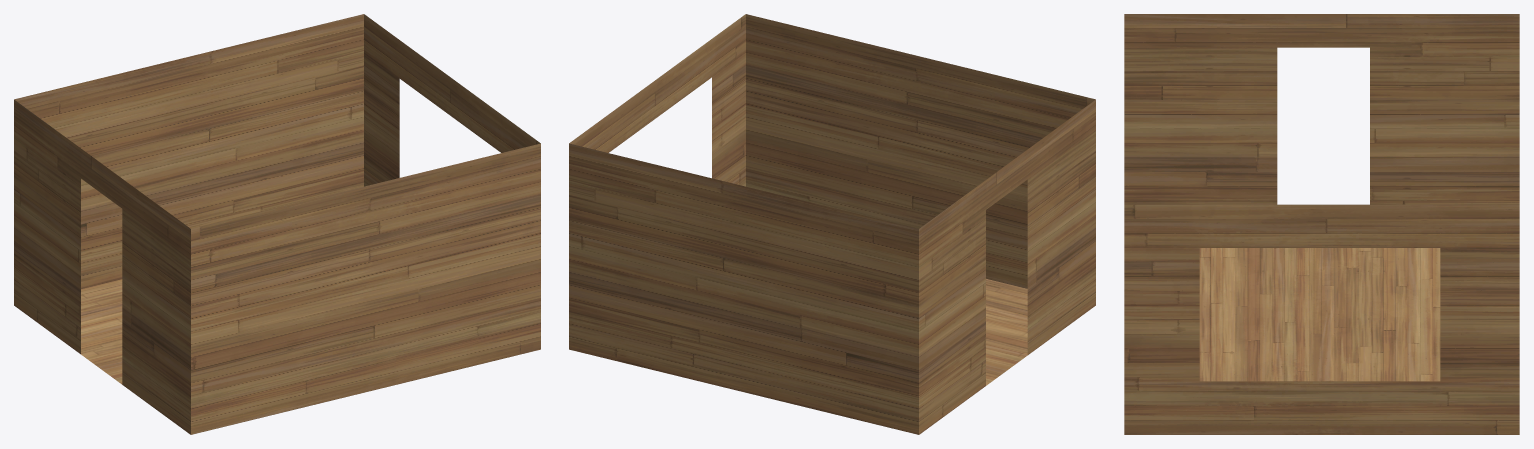
Rendered from dormitorio.fbx.
The picture shows the model from 3 angles, left to right: view 1: azimuth 30°, elevation 25°; view 2: azimuth 150°, elevation 25°; view 3: azimuth 270°, elevation 25°; orthographic projection. The views are drawn at different scales.
Visible parts, largest first — view 1: Suelo; view 2: Suelo; view 3: Suelo.
Boxes of the visible parts, bbox=[...] form: Suelo: bbox=[14, 14, 540, 434]; Suelo: bbox=[569, 14, 1095, 434]; Suelo: bbox=[1124, 14, 1519, 434].
Bounding box in the file's own units: 800 × 450 × 700.
